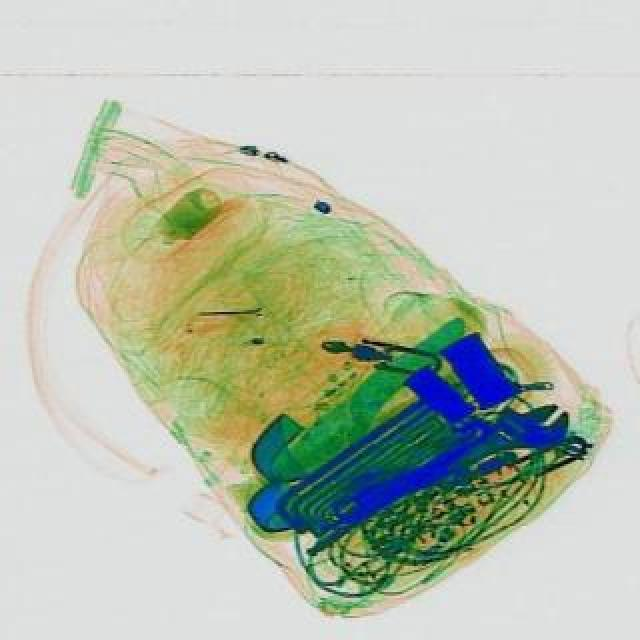scissors: (318, 384, 576, 536)
